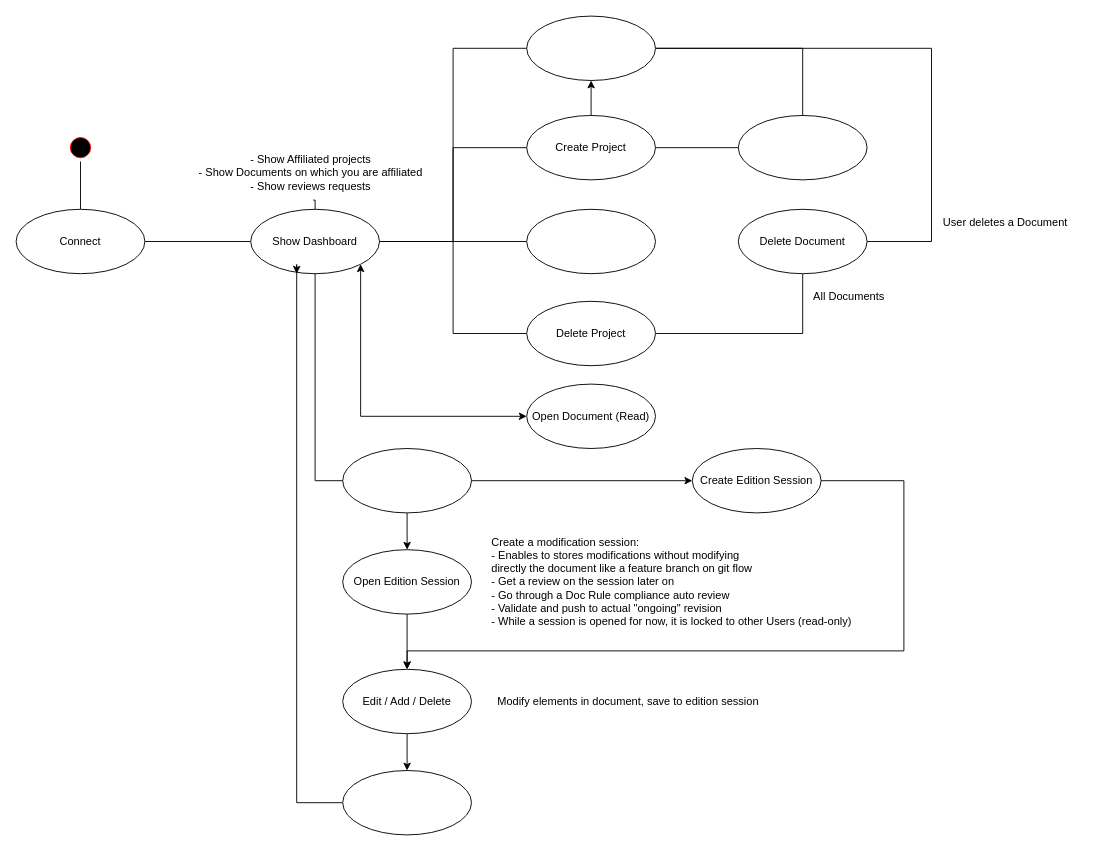
Some shapes in this 1095 by 851 pixel diagram are drawn without their labels. The shapes that lost their labels are listed below. From the top down, each one's box as (x1, y1, x2, y2) in pixels, then its label:
(526, 15, 656, 80): Configure Project
(737, 115, 867, 180): Create Document
(526, 208, 656, 274): Archive Project
(342, 448, 472, 513): Open Document (Write)
(342, 770, 472, 835): Save Modification Session
